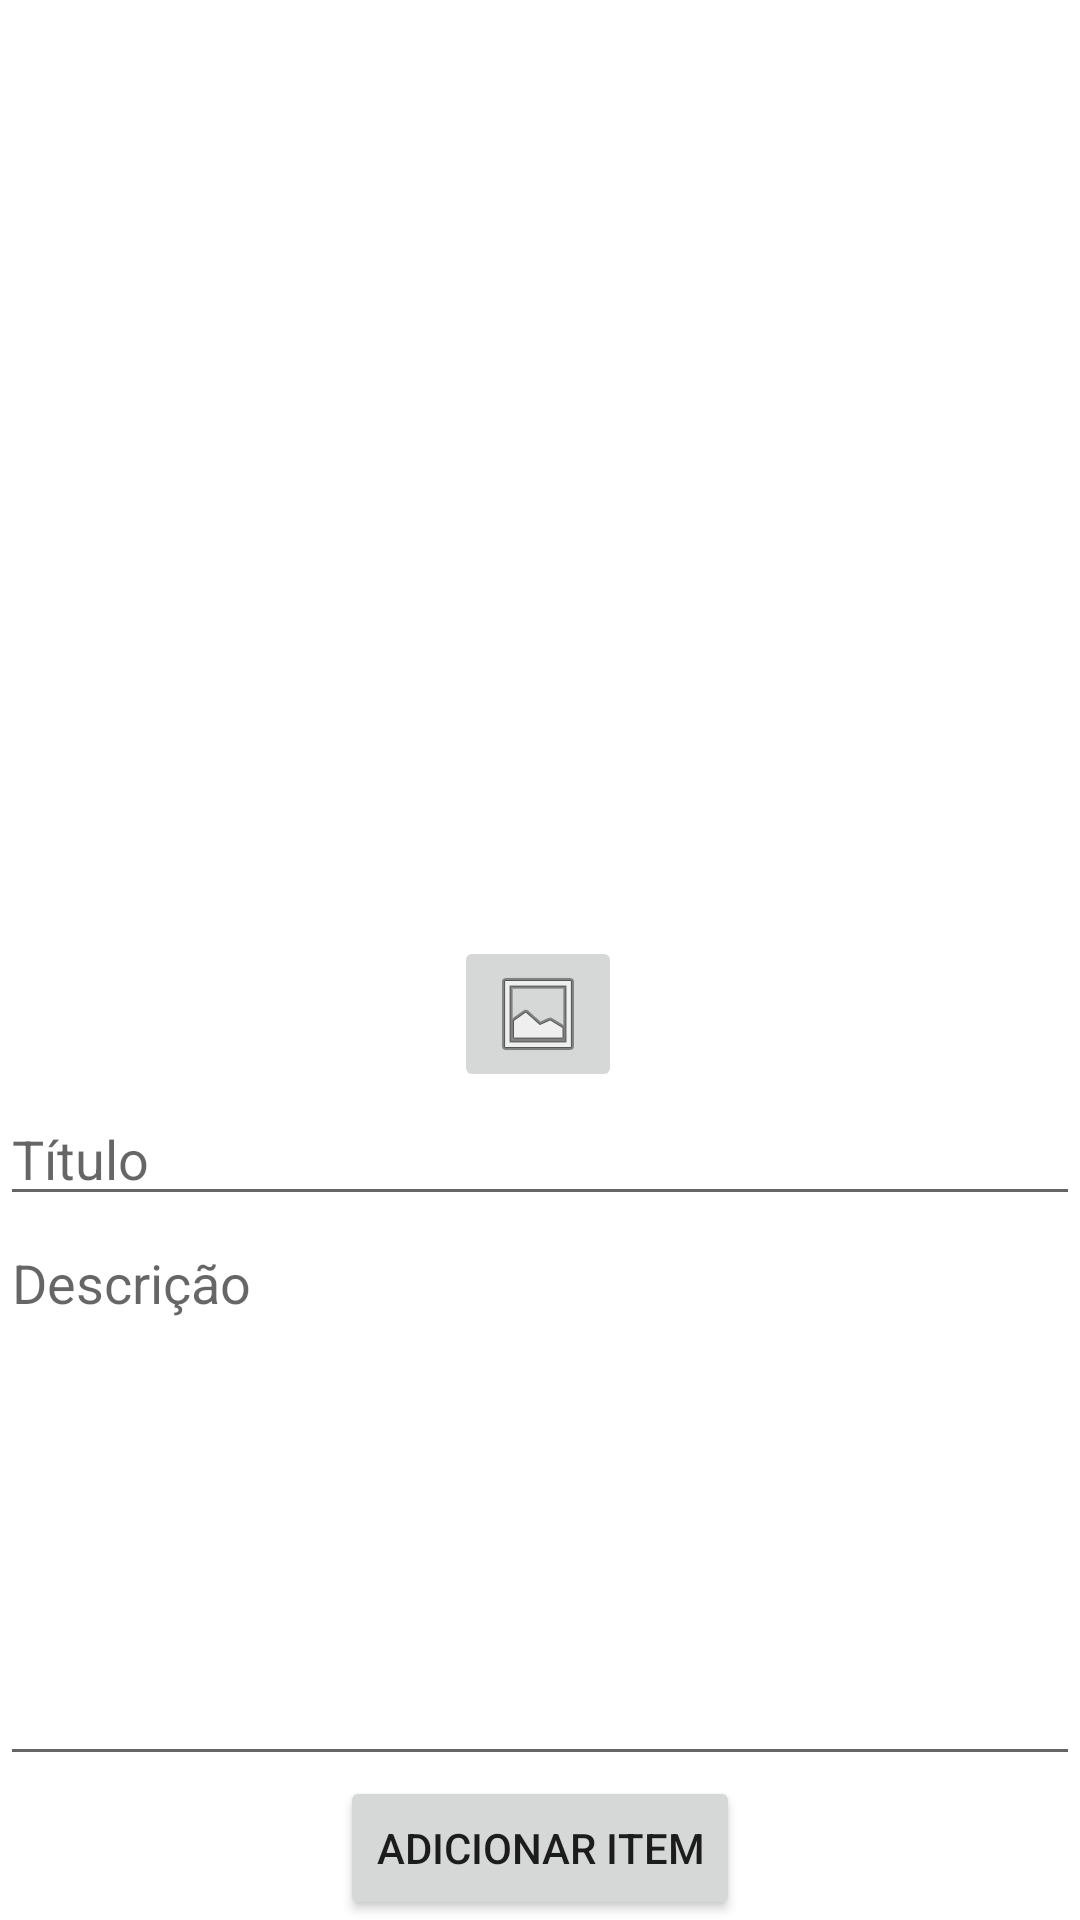

Icons on this 1080w x 1920h Android screen, each with the point to tap as (x,y):
gallery: (538,1014)
